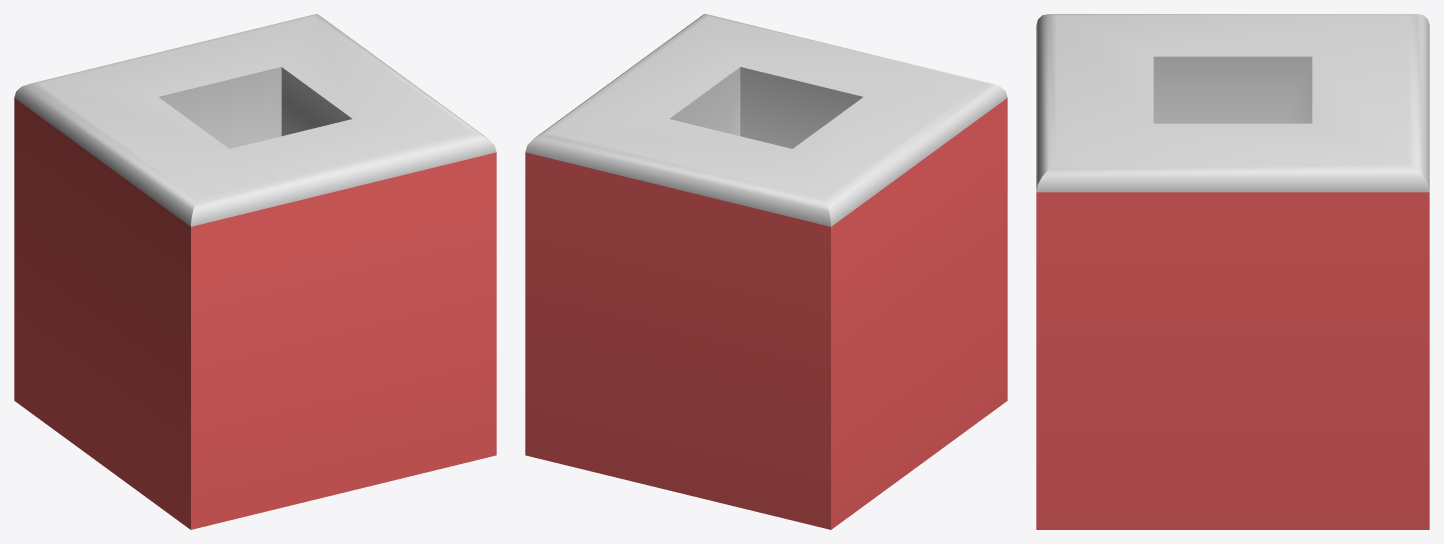
The model's file is CubeForTile_04.1_Hole_2.fbx.
The picture shows the model from 3 angles, left to right: view 1: azimuth 30°, elevation 25°; view 2: azimuth 150°, elevation 25°; view 3: azimuth 270°, elevation 25°; orthographic projection. The views are drawn at different scales.
Visible parts, largest first — view 1: CubeForTile_04.1_Hole; view 2: CubeForTile_04.1_Hole; view 3: CubeForTile_04.1_Hole.
Part boxes in pixels (<box>): CubeForTile_04.1_Hole: <box>14,14,496,529</box>; CubeForTile_04.1_Hole: <box>525,14,1007,529</box>; CubeForTile_04.1_Hole: <box>1036,14,1429,529</box>.
Size of the model in its own units: 1000 by 1000 by 1000.
